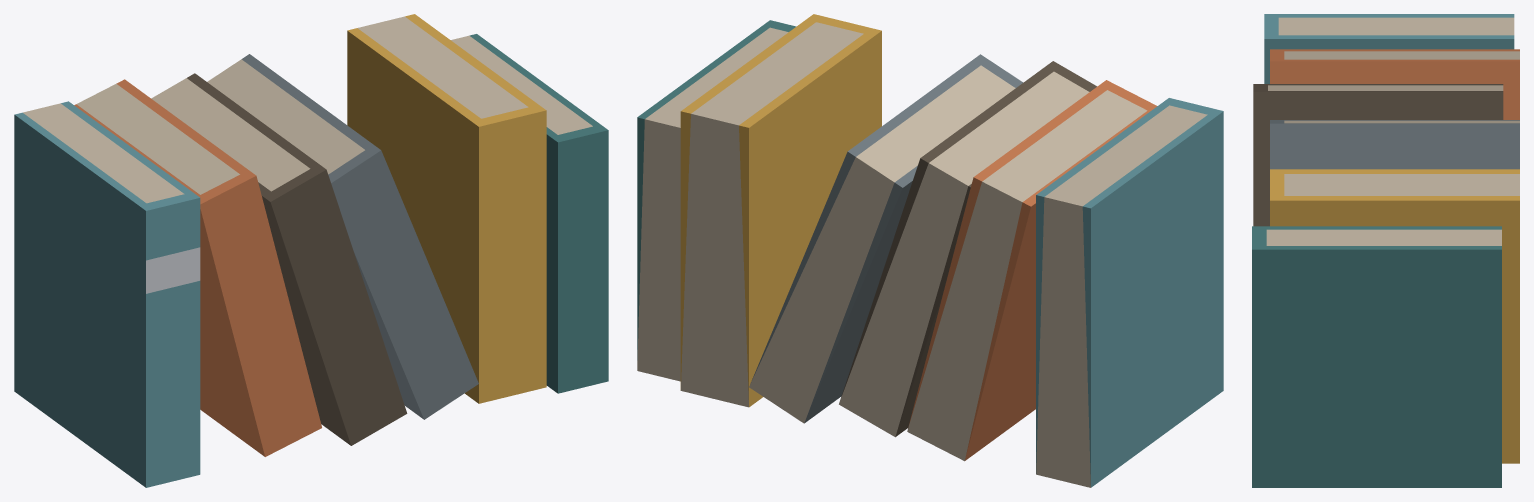
The model's file is SM_Prop_Book_Group_01.fbx.
3 views of the same model, side by side, from view 1: azimuth 30°, elevation 25°; view 2: azimuth 150°, elevation 25°; view 3: azimuth 270°, elevation 25° (orthographic). The views are drawn at different scales.
Parts seen in each view (by area): view 1: SM_Prop_Book_Group_01; view 2: SM_Prop_Book_Group_01; view 3: SM_Prop_Book_Group_01.
Boxes of the visible parts, <box> form: SM_Prop_Book_Group_01: <box>14,14,608,487</box>; SM_Prop_Book_Group_01: <box>637,14,1223,487</box>; SM_Prop_Book_Group_01: <box>1252,14,1519,487</box>.
Bounding box in the file's own units: 57.32 × 34.26 × 30.72.
